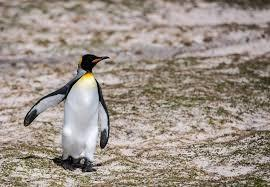king: (35, 48, 127, 174)
